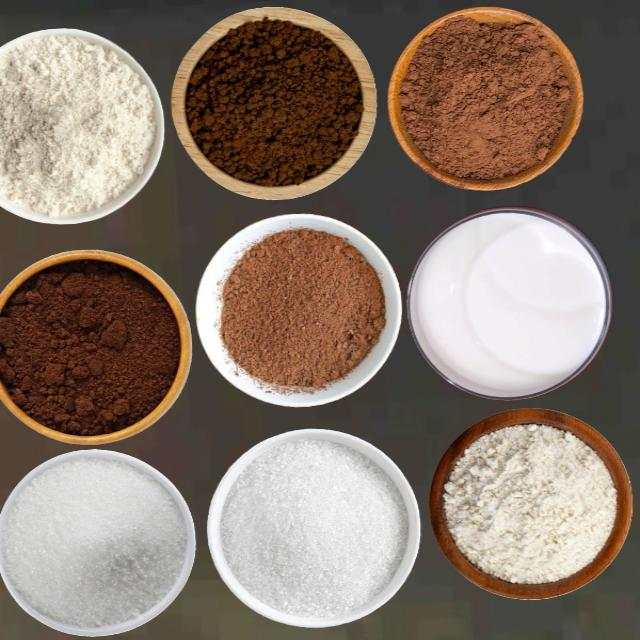Cocoa: (388, 6, 583, 189), (219, 227, 386, 394)
Coffee: (0, 255, 184, 438), (184, 16, 363, 187)
Flour: (0, 32, 155, 217), (441, 422, 617, 584)
Sugar: (219, 438, 407, 619), (1, 457, 187, 628)
